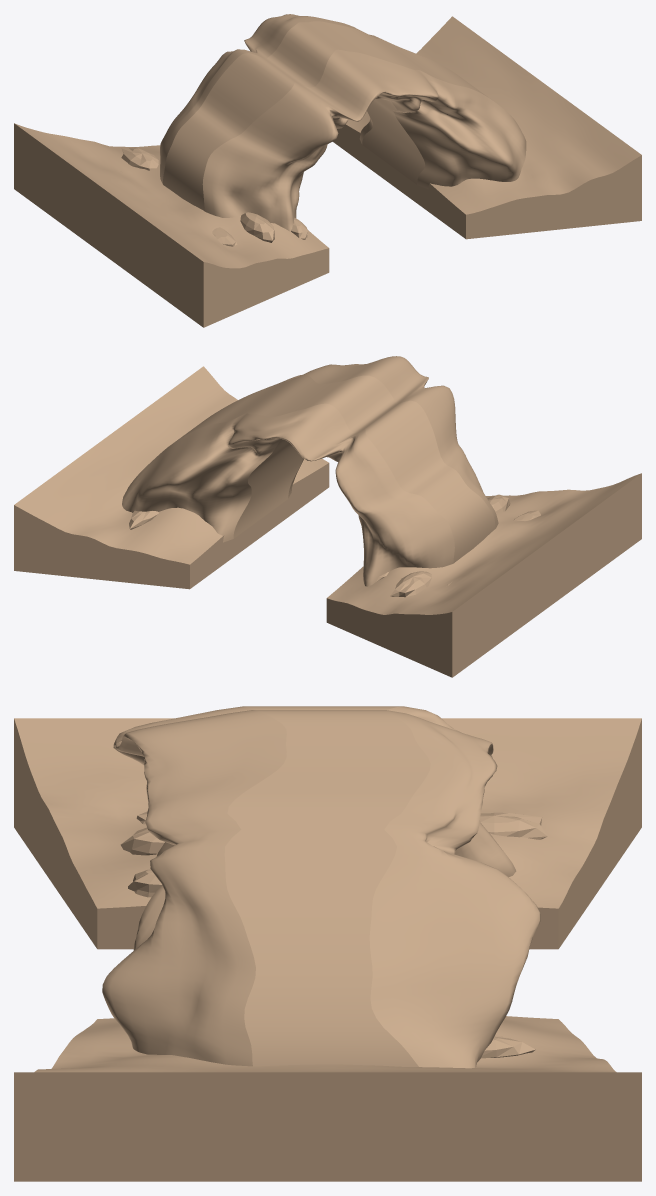
The model's file is RibTunnelInner.obj.
3 views of the same model, one above another, from view 1: azimuth 30°, elevation 25°; view 2: azimuth 150°, elevation 25°; view 3: azimuth 270°, elevation 25° (orthographic). The views are drawn at different scales.
Visible parts, largest first — view 1: RibTunnelInner_HD; view 2: RibTunnelInner_HD; view 3: RibTunnelInner_HD.
Part boxes in pixels (x1=…): RibTunnelInner_HD: x1=14, y1=14, x2=641, y2=327; RibTunnelInner_HD: x1=14, y1=356, x2=641, y2=677; RibTunnelInner_HD: x1=14, y1=706, x2=641, y2=1181.
Size of the model in its own units: 6.54 by 2.41 by 4.9.
